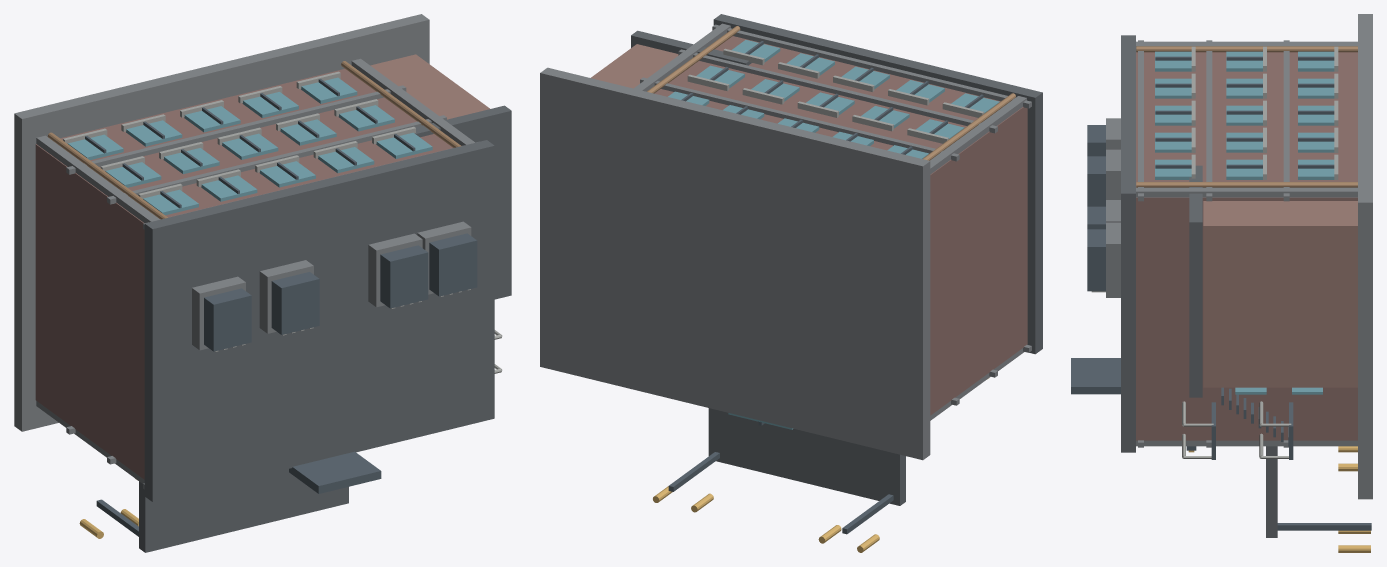
The model's file is powerquest_hospital.glb.
3 renders of one model, left to right at view 1: azimuth 30°, elevation 25°; view 2: azimuth 150°, elevation 25°; view 3: azimuth 270°, elevation 25°, orthographic. The views are drawn at different scales.
Visible parts, largest first — view 1: piece_003, piece_001, piece_000, piece_105, piece_004, piece_002, piece_136, piece_130, piece_124, piece_118, piece_010, piece_114 (+24 smaller); view 2: piece_000, piece_001, piece_105, piece_003, piece_012, piece_014, piece_010, piece_002, piece_006, piece_008, piece_004, piece_142 (+1 smaller); view 3: piece_001, piece_002, piece_000, piece_003, piece_004, piece_008, piece_114, piece_141, piece_006, piece_007, piece_142, piece_136 (+26 smaller).
Part boxes in pixels (x1,y1,x2,y2): piece_003: (144, 140, 494, 501); piece_001: (35, 69, 452, 479); piece_000: (14, 14, 429, 431); piece_105: (139, 469, 348, 552); piece_004: (414, 105, 511, 299); piece_002: (370, 54, 489, 119); piece_136: (429, 233, 477, 296); piece_130: (380, 245, 428, 308); piece_124: (271, 272, 319, 334); piece_118: (204, 288, 251, 351); piece_010: (66, 85, 406, 174); piece_114: (289, 451, 381, 493); piece_000: (540, 67, 930, 460); piece_001: (654, 36, 1027, 415); piece_105: (708, 408, 905, 505); piece_003: (713, 14, 1042, 354); piece_012: (678, 49, 997, 133); piece_014: (712, 24, 1031, 108); piece_010: (640, 77, 959, 161); piece_002: (591, 44, 678, 88); piece_006: (930, 96, 1026, 174); piece_008: (634, 23, 730, 91); piece_004: (631, 30, 751, 65); piece_142: (647, 26, 740, 93); piece_001: (1136, 52, 1357, 440); piece_002: (1203, 201, 1357, 387); piece_000: (1358, 14, 1372, 499); piece_003: (1121, 35, 1135, 452); piece_004: (1189, 165, 1202, 397); piece_008: (1136, 187, 1357, 197); piece_114: (1071, 358, 1120, 394); piece_141: (1136, 46, 1357, 52); piece_006: (1136, 41, 1357, 51); piece_007: (1136, 440, 1357, 446); piece_142: (1136, 182, 1357, 187); piece_136: (1087, 229, 1105, 291).
Size of the model in its own units: 15 by 15.08 by 10.15.
